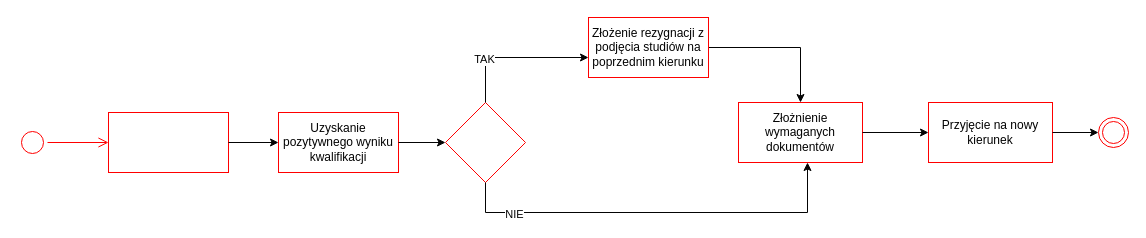
Image size: 1146x238. Some labels were removed from this diagram. Each missing label, with the centre of its shape:
Czy przyjęty w poprzedniej turze?: the point at 485,142
Złożenie zgłoszenia w kolejnej turze rekrutacji: the point at 168,142
